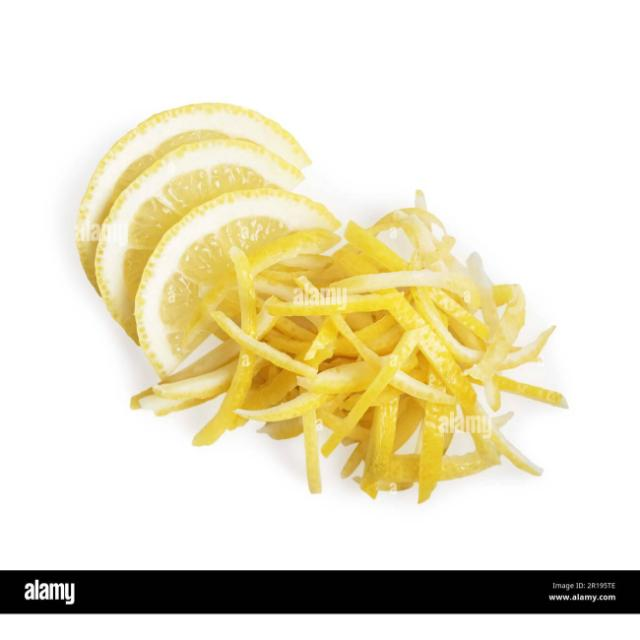organic: (74, 101, 569, 506)
